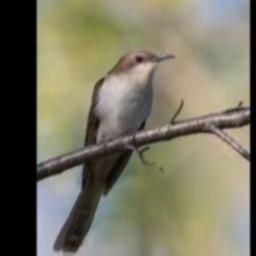Cuckoo: (55, 51, 175, 253)
